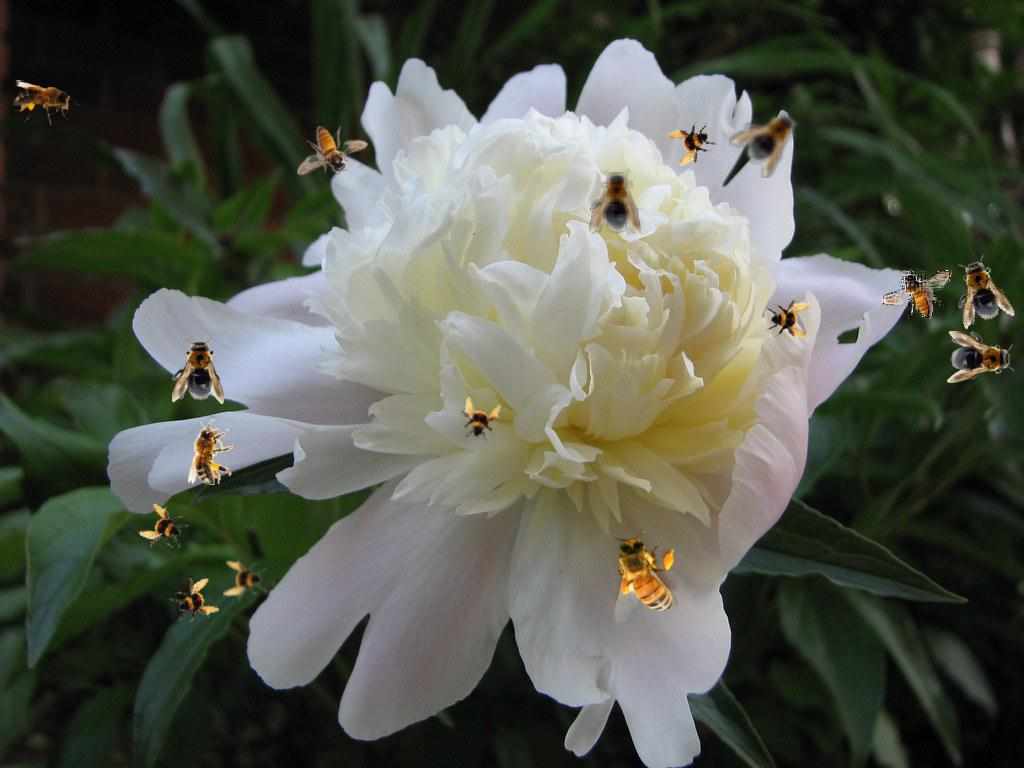Bee: (727, 94, 813, 180), (610, 531, 678, 624), (944, 250, 1016, 332), (164, 570, 224, 630), (663, 114, 723, 174), (881, 269, 952, 319), (297, 126, 368, 176), (172, 336, 224, 404), (589, 168, 641, 236), (947, 331, 1015, 383), (135, 500, 193, 558), (188, 419, 233, 485), (13, 80, 79, 125), (452, 394, 504, 446), (766, 296, 810, 340), (223, 559, 267, 603)
